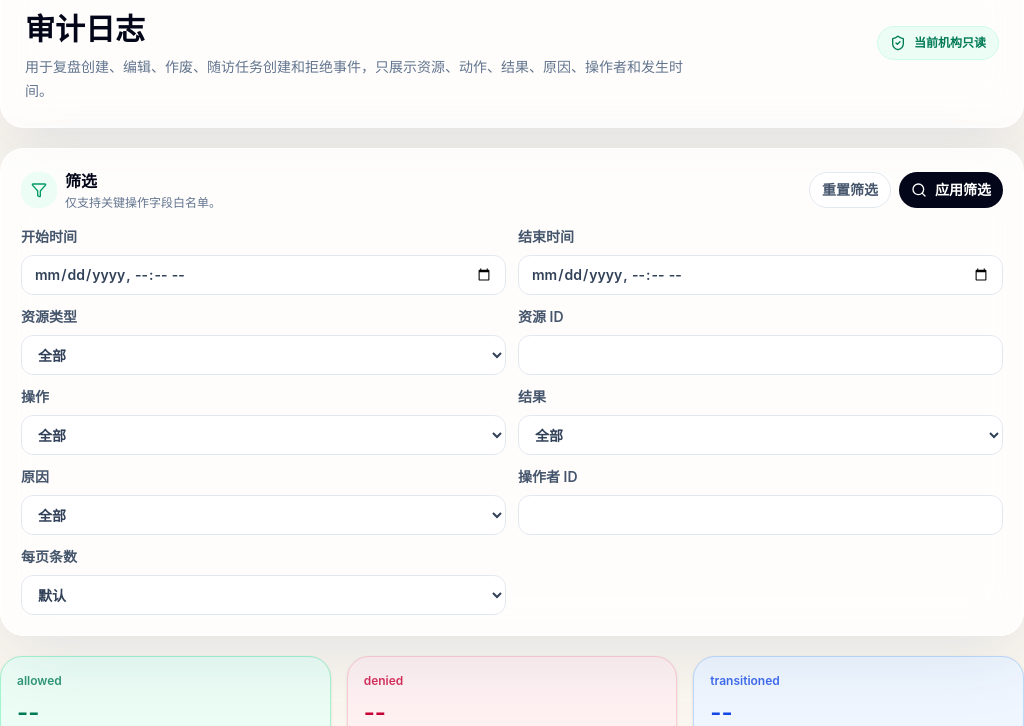
机构业务页面壳 › 审计日志忽略晚到的旧成功结果，不回填新 replace 的不可用状态
The image size is (1024, 726).
Click the button "应用筛选": (951, 190) [899,172,1003,208]
(page scrolled)
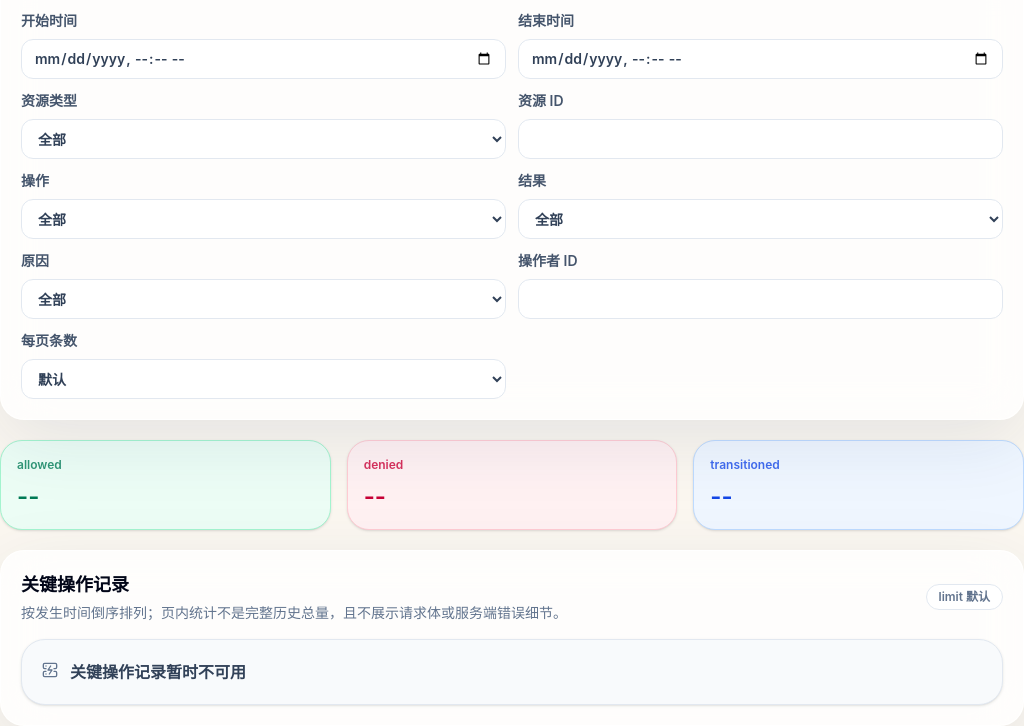
Expected: the text "limit 默认" is shown, [926,584,1003,610]
Expected: the text "关键操作记录暂时不可用" is shown, [70,660,246,684]
